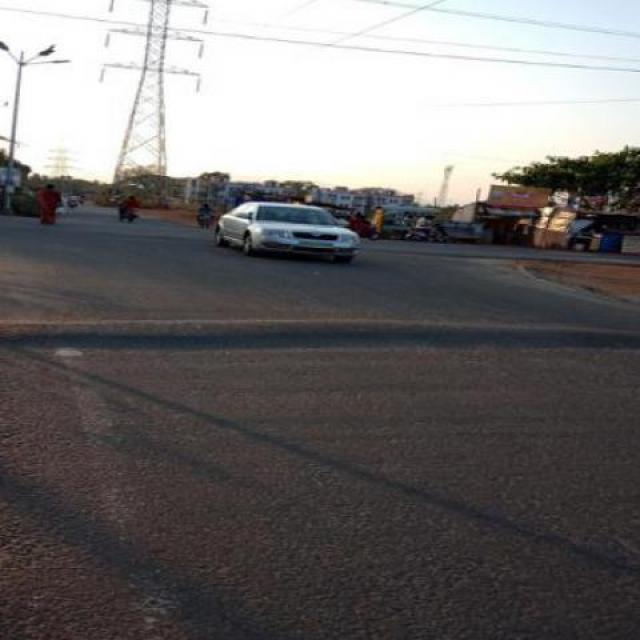Unmarked Bump: (0, 315, 639, 358)
